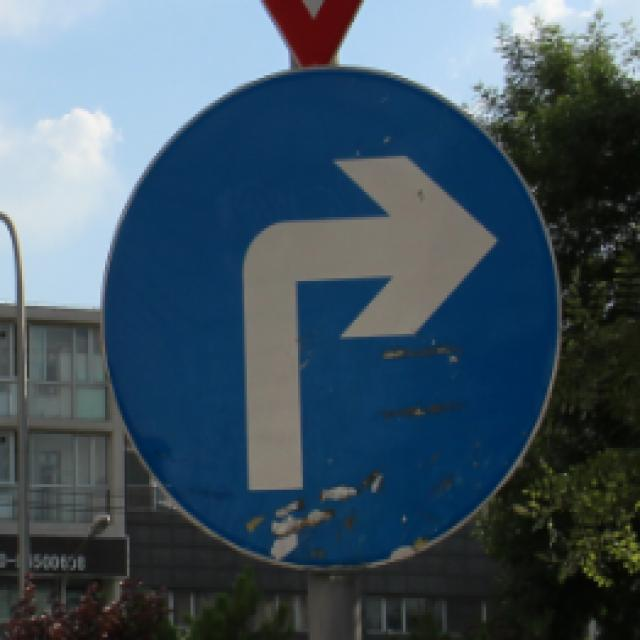Right: (93, 63, 574, 582)
